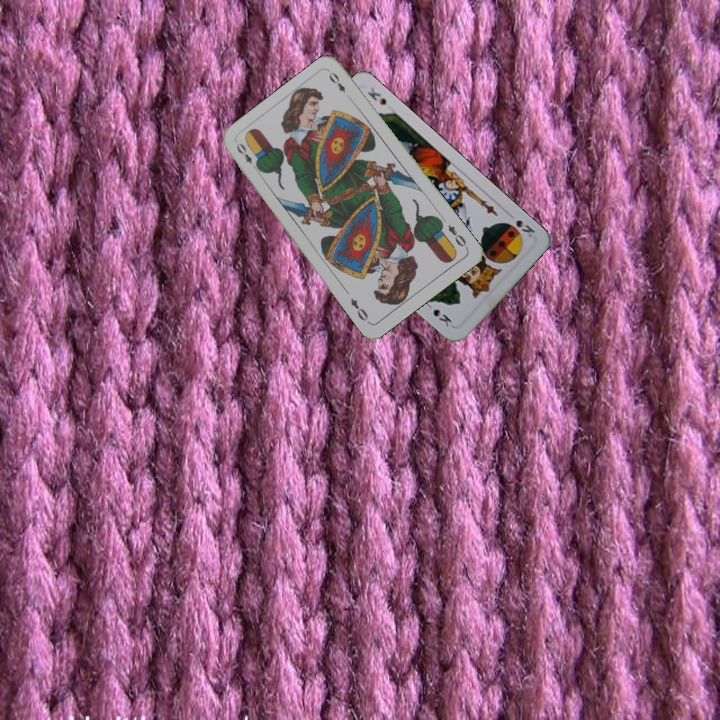EO: (232, 139, 262, 174), (444, 220, 470, 251)
SK: (501, 216, 538, 240)
